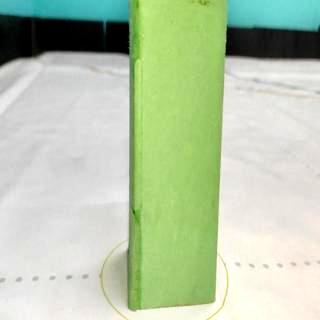greenbox: (126, 0, 228, 311)
